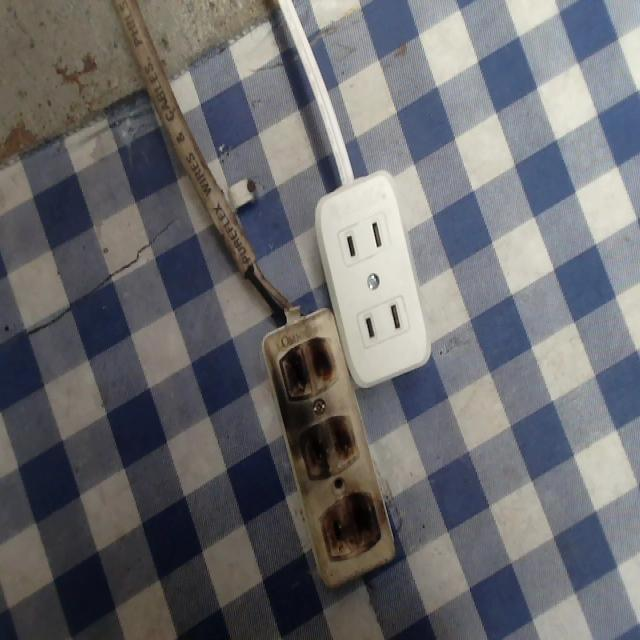-: (321, 491, 378, 564), (277, 333, 335, 403), (296, 411, 356, 468)
